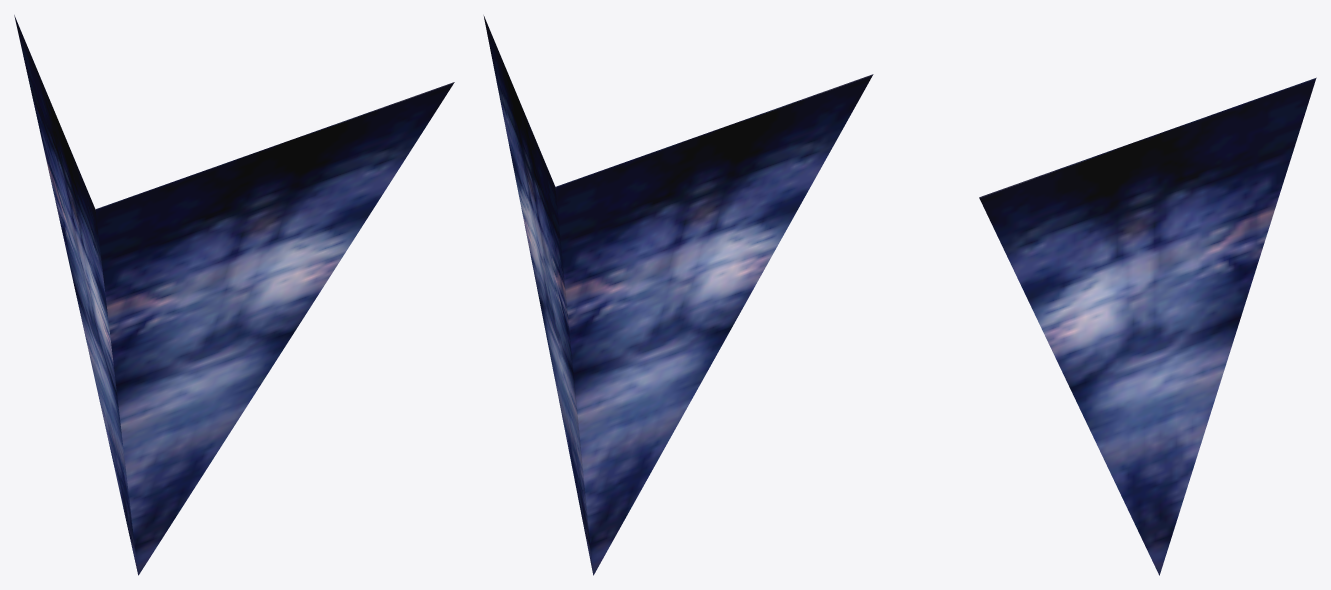
3 renders of one model, left to right at view 1: azimuth 30°, elevation 25°; view 2: azimuth 150°, elevation 25°; view 3: azimuth 270°, elevation 25°, orthographic. The views are drawn at different scales.
Visible parts, largest first — view 1: Object16; view 2: Object16; view 3: Object16.
Part boxes in pixels (x1=…): Object16: x1=14, y1=15, x2=454, y2=575; Object16: x1=483, y1=15, x2=873, y2=575; Object16: x1=979, y1=77, x2=1316, y2=575.
Bounding box in the file's own units: 1098 × 1339 × 1048.
Materials: 1 (1 with a texture image).
